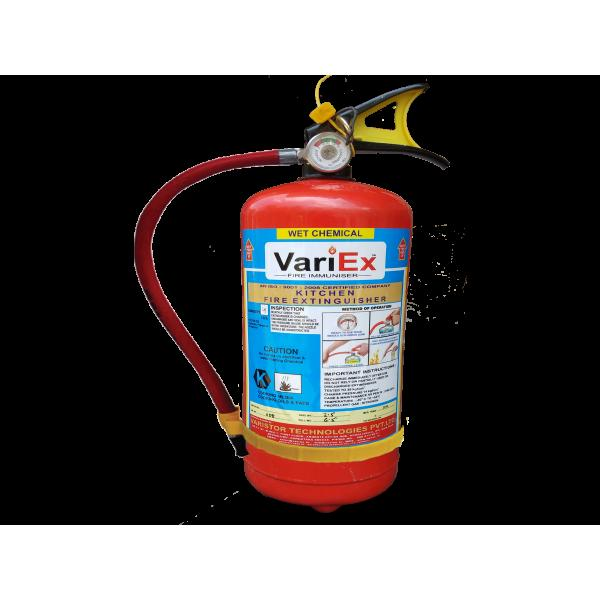Fire Extinguisher: (128, 70, 495, 523)
